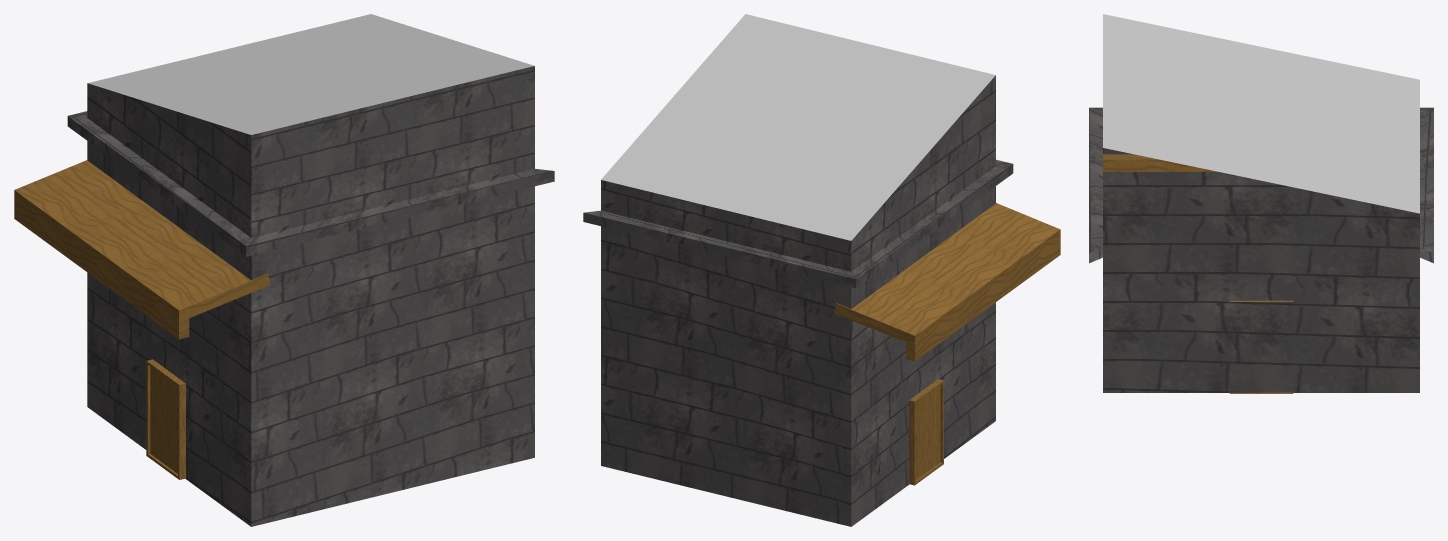
Rendered from Blocos 9.fbx.
The picture shows the model from 3 angles, left to right: view 1: azimuth 30°, elevation 25°; view 2: azimuth 150°, elevation 25°; view 3: azimuth 270°, elevation 25°; orthographic projection. The views are drawn at different scales.
Visible parts, largest first — view 1: Loja4; view 2: Loja4; view 3: Loja4.
Part boxes in pixels (x1,y1,x2,y2): Loja4: [14, 14, 554, 526]; Loja4: [583, 14, 1060, 526]; Loja4: [1089, 14, 1433, 393].
Bounding box in the file's own units: 1040 × 1055 × 870.
